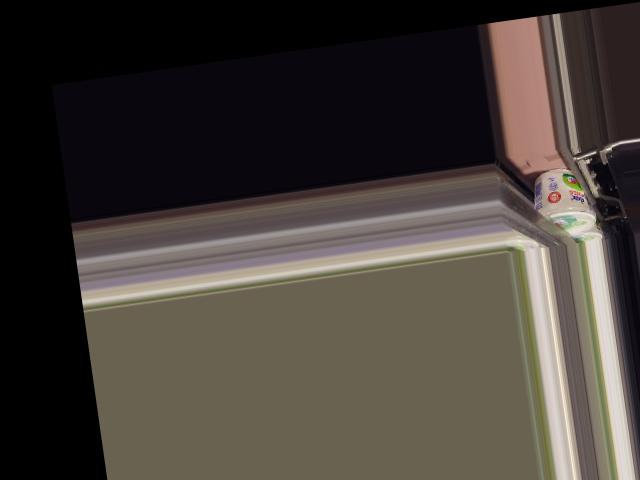cotage: (528, 166, 593, 239)
